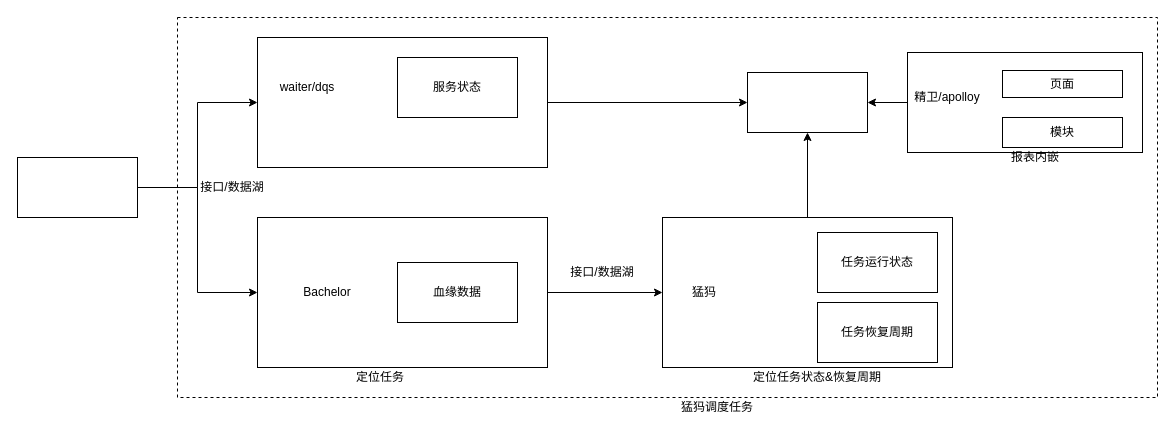
The diagram is 1175 pixels wide and 435 high, and some of its shapes have lost their labels. Here are the shapes that lost their labels. From the top down, the centre of each, then its label:
At point (807, 102): "消息通知".
At point (77, 187): "产品编码".
